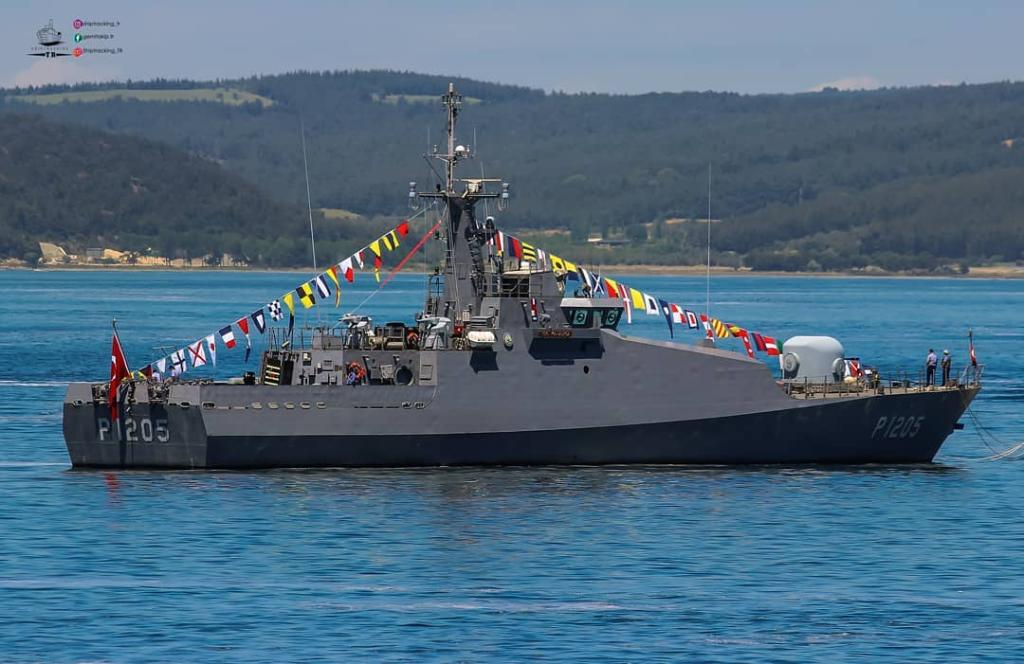Warship: (44, 79, 994, 499)
